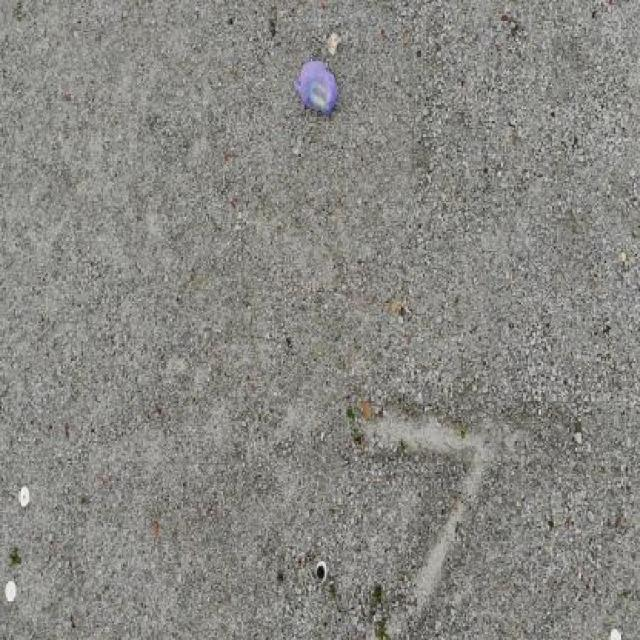Garbage: (293, 60, 338, 117), (325, 29, 343, 53), (317, 564, 323, 578)
